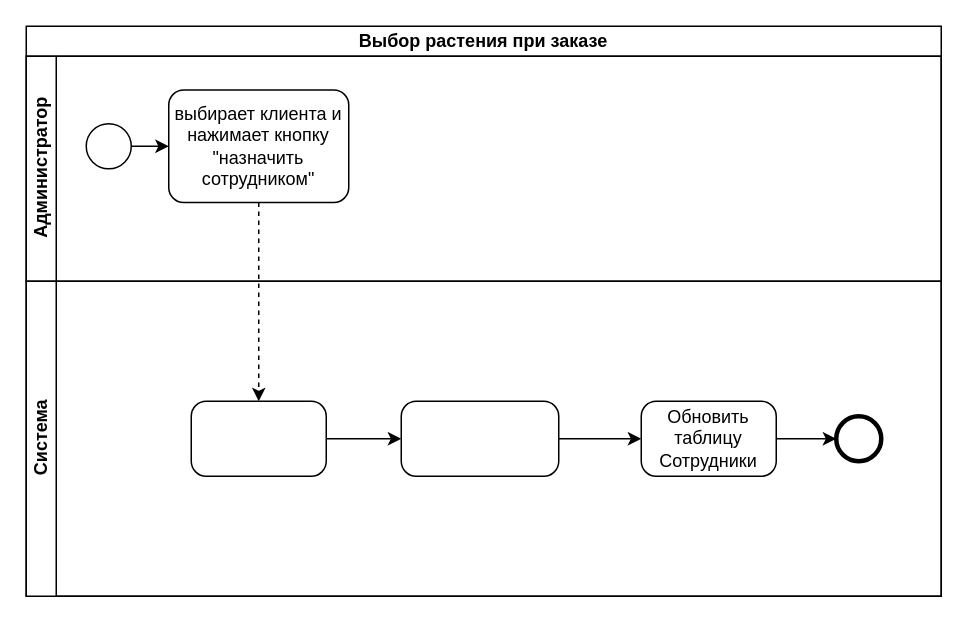
Some shapes in this 968 by 623 pixel diagram are drawn without their labels. Here are the shapes that lost their labels. From the top down, the centre of each, then its label:
At point (258, 438): "Обработать запрос".
At point (479, 438): "Обновить таблицу Клиенты".
